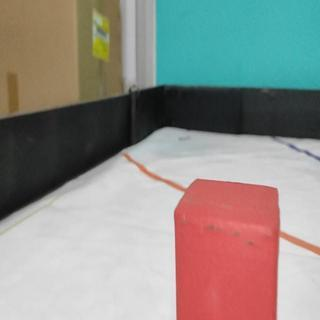redbox: (173, 178, 280, 320)
